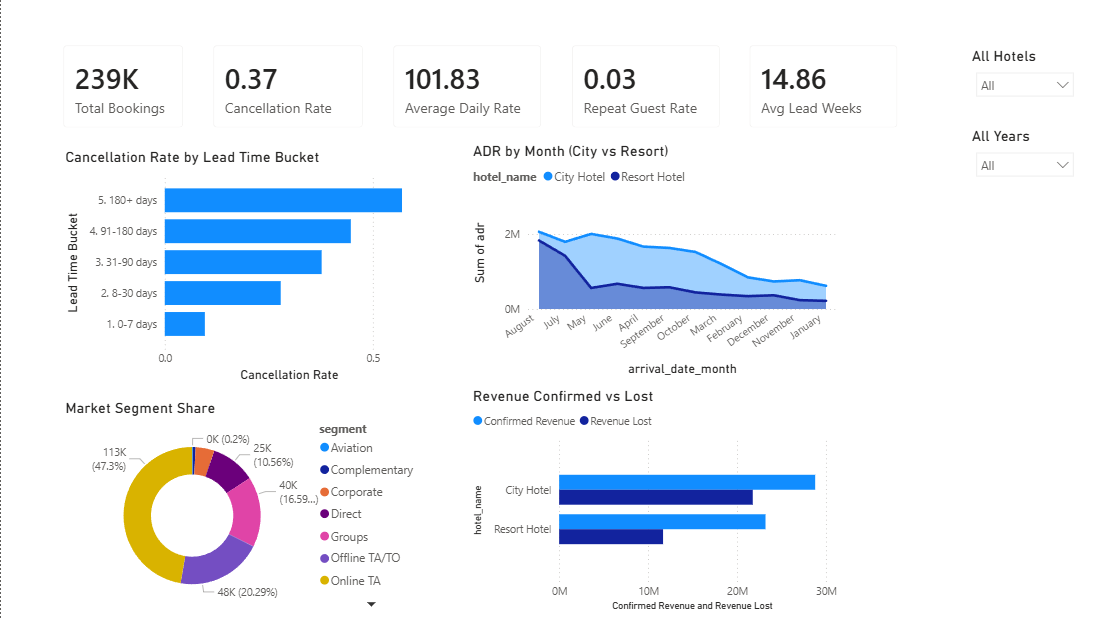

What the dashboard file says about the page in this screenshot:
{"tool":"powerbi","page":{"name":"Page 1","canvas":[1280,720],"ordinal":0},"visuals":[{"type":"cardVisual","fields":{"Data":["public bookings.Total Bookings"]},"box":[54.6,37,171.5,129],"z":0},{"type":"cardVisual","fields":{"Data":["public bookings.Cancellation Rate"]},"box":[226.1,37,205.8,129],"z":1000},{"type":"cardVisual","fields":{"Data":["public bookings.Average Daily Rate"]},"box":[431.9,37,203.1,129],"z":2000},{"type":"cardVisual","fields":{"Data":["public bookings.Repeat Guest Rate"]},"box":[635,37,203.1,129],"z":3000},{"type":"cardVisual","fields":{"Data":["public bookings.Avg Lead Weeks"]},"box":[838.1,37,203.1,129],"z":4000},{"type":"clusteredBarChart","fields":{"Category":["public bookings.Lead Time Bucket"],"Y":["public bookings.Cancellation Rate"]},"box":[69.1,171.7,417.1,272.9],"z":5000},{"type":"donutChart","title":"Market Segment Share","fields":{"Series":["public market_segments.segment_name"],"Y":["public bookings.Total Bookings"]},"box":[69.1,458.9,417.1,247.1],"z":6000},{"type":"clusteredBarChart","title":"Revenue Confirmed vs Lost","fields":{"Category":["public hotels.hotel_name"],"Y":["public bookings.Confirmed Revenue","public bookings.Revenue Lost"]},"box":[533.7,444.9,425.7,261.4],"z":7000},{"type":"areaChart","title":"ADR by Month (City vs Resort)","fields":{"Category":["public bookings.arrival_date_month"],"Series":["public hotels.hotel_name"],"Y":["Sum(public bookings.adr)"]},"box":[533.7,164.9,425.7,272.9],"z":8000},{"type":"slicer","title":"All Hotels","fields":{"Values":["public hotels.hotel_name"]},"box":[1104.3,55.7,131.4,91.4],"z":8001},{"type":"slicer","title":"All Years","fields":{"Values":["public bookings.arrival_date_year"]},"box":[1104.3,147.1,131.4,91.4],"z":8002}]}

Visuals, with their boxes in screenshot pixels (x1, y1, x2, y2), scaled from the page's 1280x720 canvas onto the 1094x618 screenshot:
cardVisual - public bookings.Total Bookings: <region>47, 32, 193, 142</region>
cardVisual - public bookings.Cancellation Rate: <region>193, 32, 369, 142</region>
cardVisual - public bookings.Average Daily Rate: <region>369, 32, 543, 142</region>
cardVisual - public bookings.Repeat Guest Rate: <region>543, 32, 716, 142</region>
cardVisual - public bookings.Avg Lead Weeks: <region>716, 32, 890, 142</region>
clusteredBarChart - public bookings.Lead Time Bucket x public bookings.Cancellation Rate: <region>59, 147, 416, 382</region>
"Market Segment Share" donutChart: <region>59, 394, 416, 606</region>
"Revenue Confirmed vs Lost" clusteredBarChart: <region>456, 382, 820, 606</region>
"ADR by Month (City vs Resort)" areaChart: <region>456, 142, 820, 376</region>
"All Hotels" slicer: <region>944, 48, 1056, 126</region>
"All Years" slicer: <region>944, 126, 1056, 205</region>
